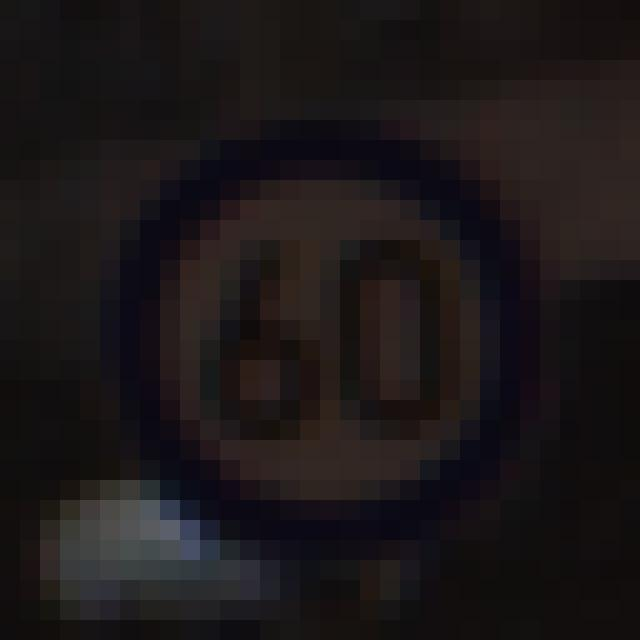SPEED-LIMIT-60: (108, 116, 559, 571)
